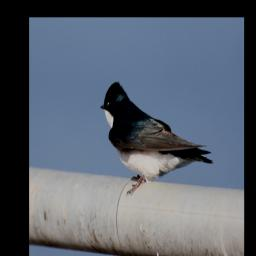Swallow: (100, 81, 213, 196)
